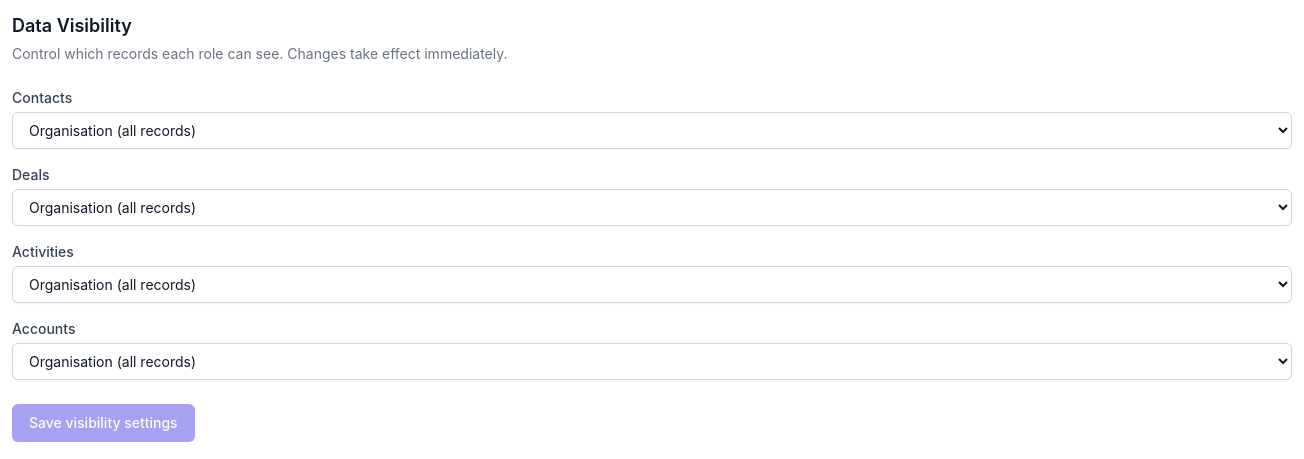
Scenario: VisibilitySettings — save flow › saves a change to the accounts select
Select "Private (own records only)" in the dropdown with test id "visibility-accounts-select" at (652, 362), box top-left (12, 343), bottom-right (1292, 380)
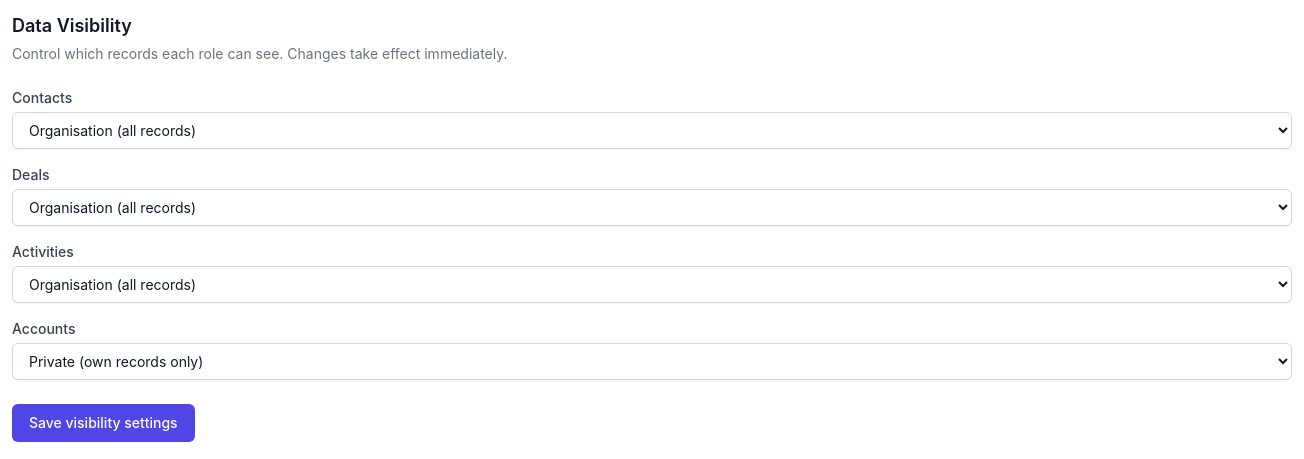
Click the button with test id "visibility-settings-save-button" at (103, 423), box top-left (12, 404), bottom-right (195, 442)
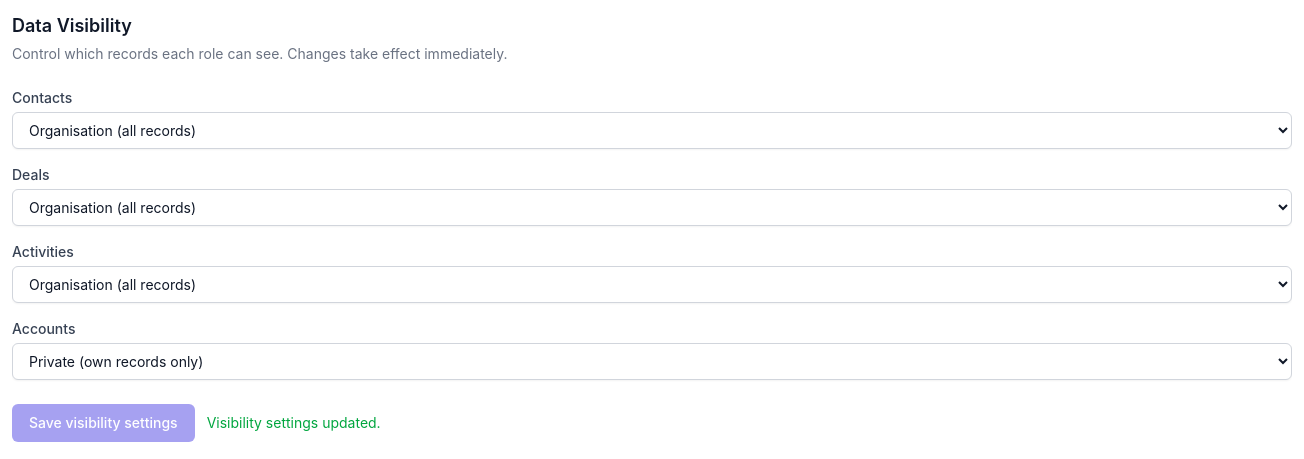
Expected: the message "Visibility settings updated." is shown, top-left (207, 413), bottom-right (381, 433)
